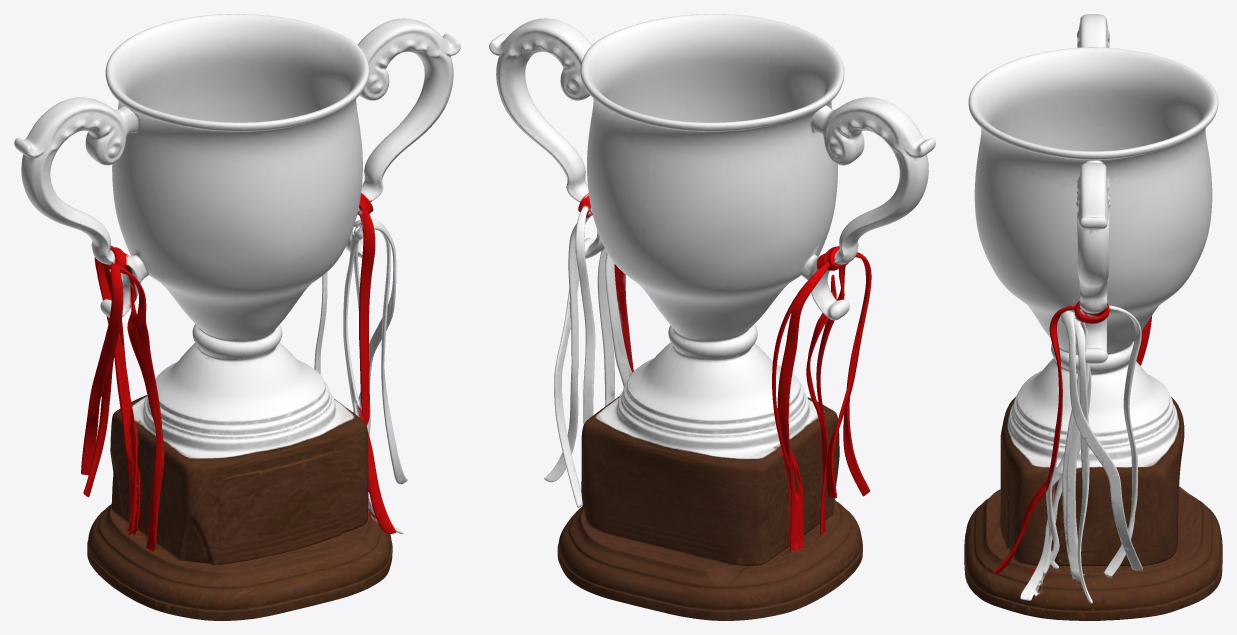
The model's file is paysBas.glb.
3 renders of one model, left to right at view 1: azimuth 30°, elevation 25°; view 2: azimuth 150°, elevation 25°; view 3: azimuth 270°, elevation 25°, orthographic. The views are drawn at different scales.
Visible parts, largest first — view 1: mesh_node; view 2: mesh_node; view 3: mesh_node.
Part boxes in pixels (left/top/right/bottom): mesh_node: left=14, top=14, right=460, bottom=620; mesh_node: left=489, top=14, right=935, bottom=620; mesh_node: left=964, top=14, right=1222, bottom=620.
Size of the model in its own units: 1.75 by 1.9 by 0.9514.
1 material, 1 textured.
